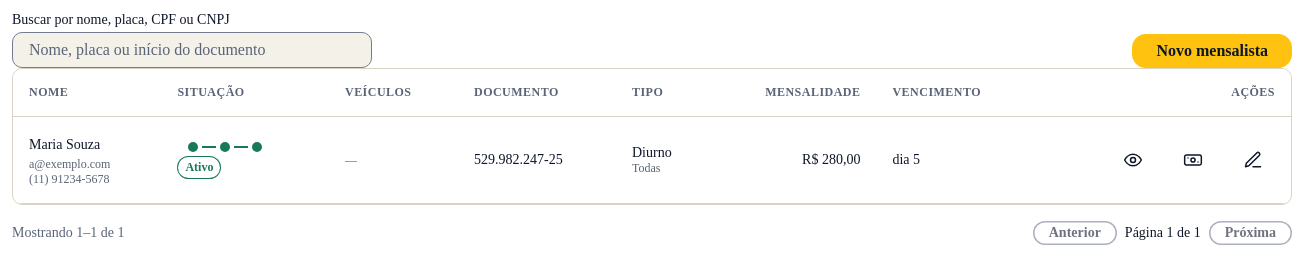
Test: MensalistasList: busca por nome e placa › nome usa o conjunto completo, filtra sem acento e deixa o texto como digitado
Expected: the button "Maria Souza" is shown, [29,133,100,157]
In the field labelled "Buscar por nome, placa, CPF ou CNPJ": (192, 50) [12,32,372,68], type "jose"
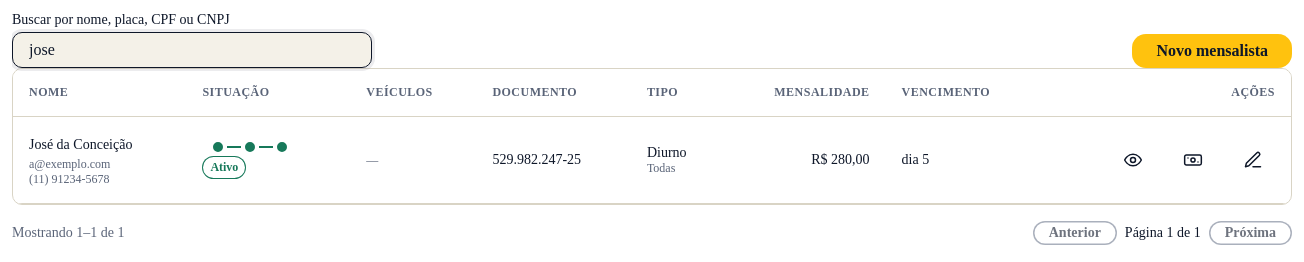
Now the button "Maria Souza" is gone
Now the button "José da Conceição" is shown, box [29,133,132,157]
